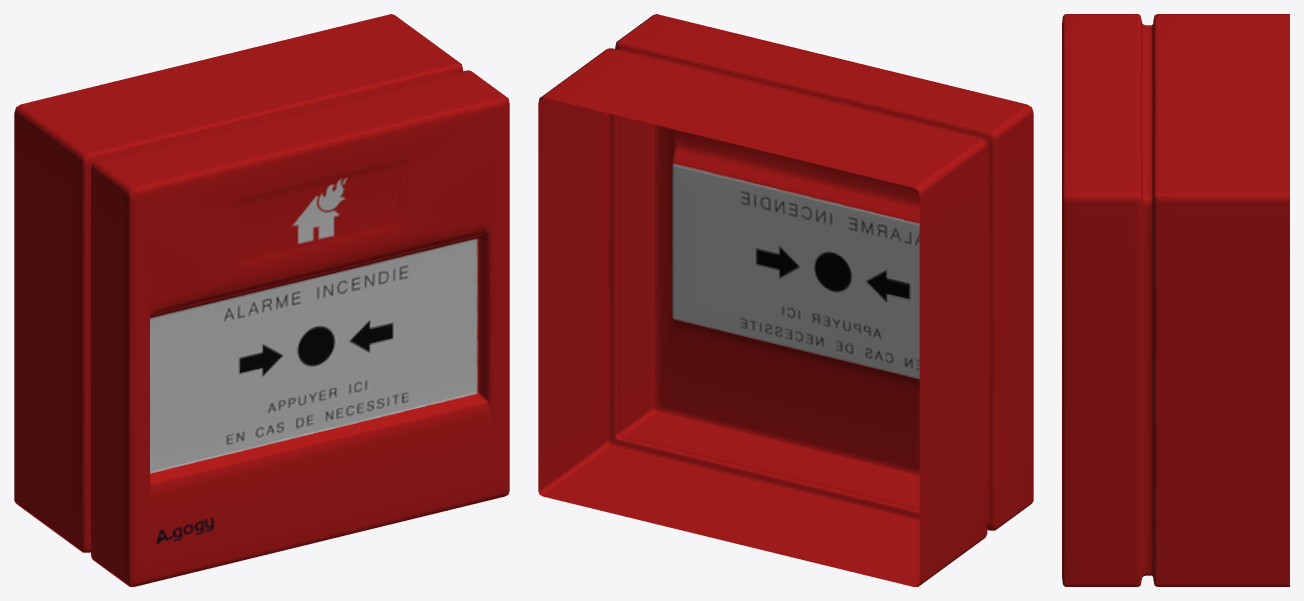
File: alarme.glb
3 views of the same model, side by side, from view 1: azimuth 30°, elevation 25°; view 2: azimuth 150°, elevation 25°; view 3: azimuth 270°, elevation 25° (orthographic).
Visible parts, largest first — view 1: Object_2; view 2: Object_2; view 3: Object_2.
Part boxes in pixels (bbox=[...]): Object_2: bbox=[14, 14, 509, 586]; Object_2: bbox=[538, 14, 1033, 586]; Object_2: bbox=[1062, 14, 1289, 586].
Bounding box in the file's own units: 0.1326 × 0.1326 × 0.0695.
Materials: 2 (1 with a texture image).
